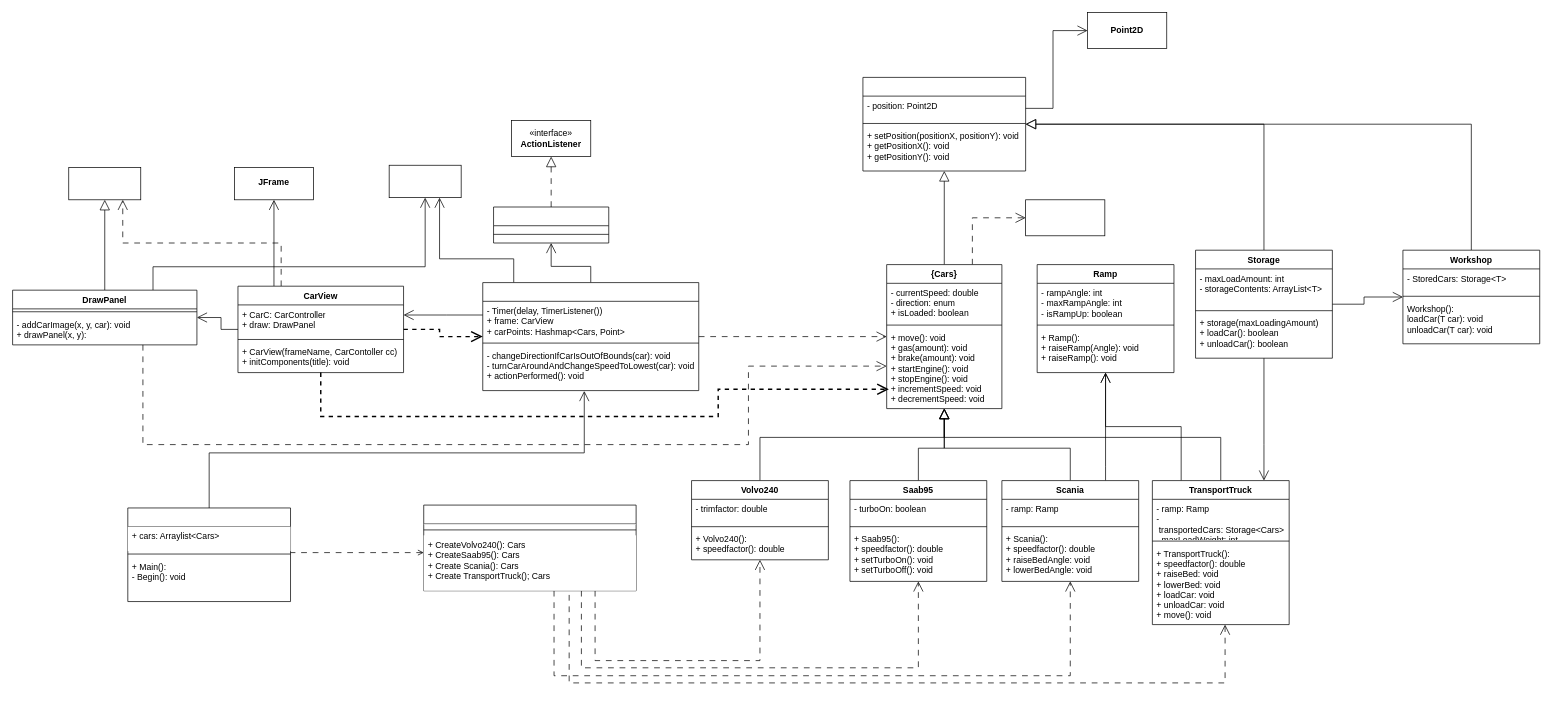
The diagram is 1552 pixels wide and 706 high, and some of its shapes have lost their labels. The box of each missing label's shape, as (x1, y1, x2, y2) in pixels:
CarController: (482, 282, 699, 391)
CarFactory: (423, 504, 636, 591)
Game: (127, 507, 291, 602)
Hashmap: (388, 165, 461, 198)
Jpanel: (68, 167, 141, 200)
Object: (862, 77, 1026, 171)
TimerListener: (493, 206, 609, 243)
«interface» Movable: (1025, 199, 1105, 236)
